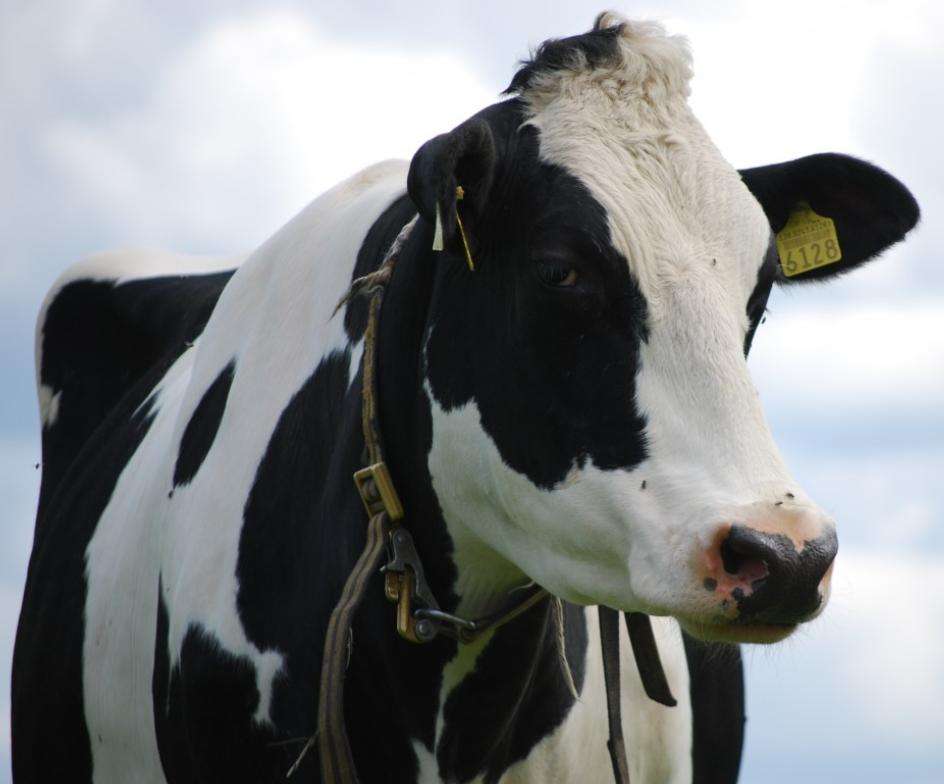cow: (13, 16, 919, 784)
